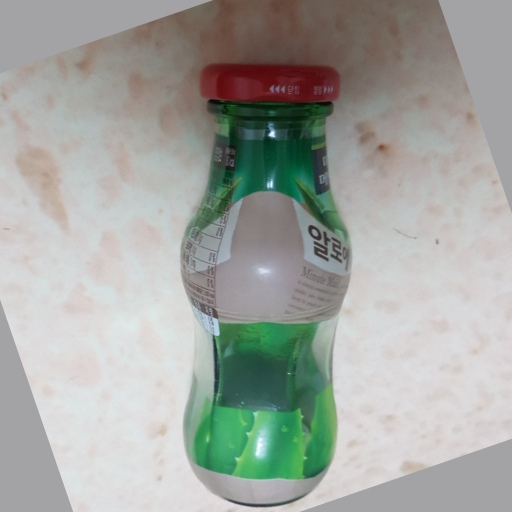Glass_4: (174, 59, 364, 503)
